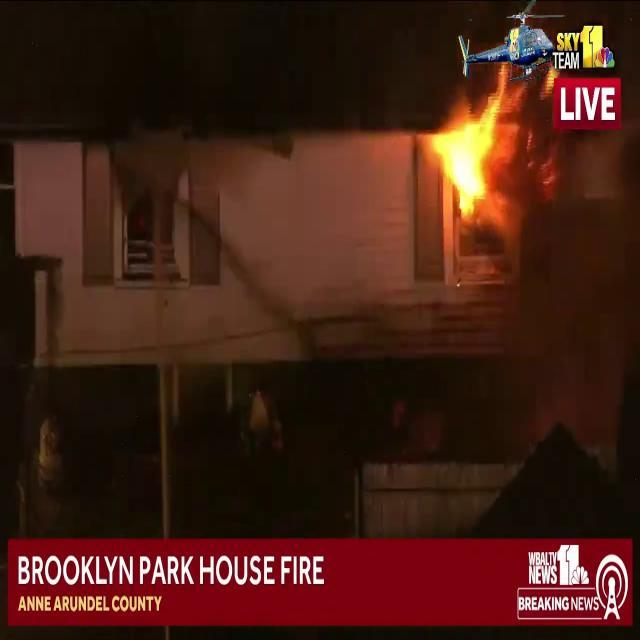Fire: (423, 74, 516, 217)
